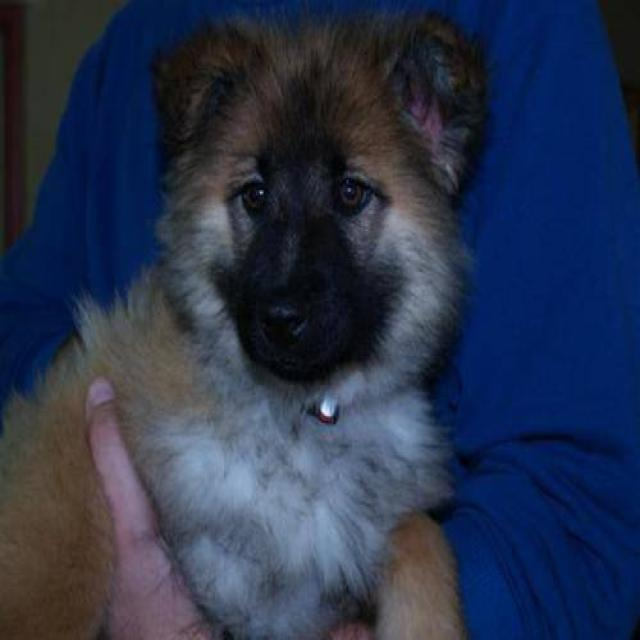dogs: (0, 7, 500, 640)
